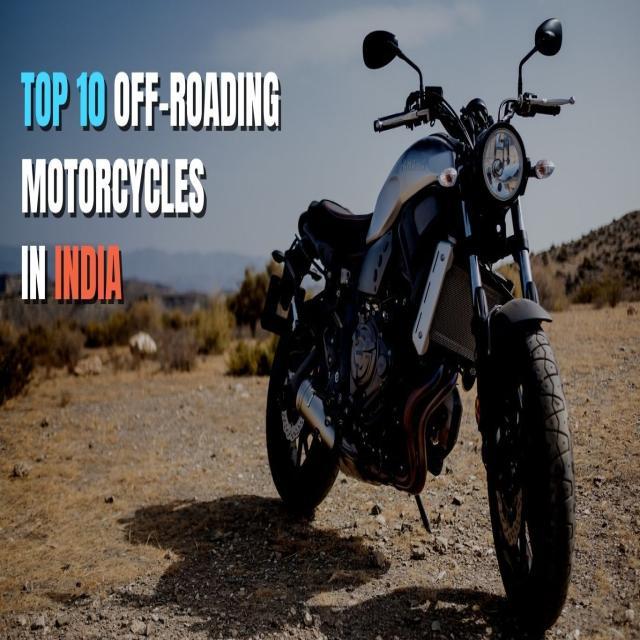motorcycle: (261, 18, 575, 630)
